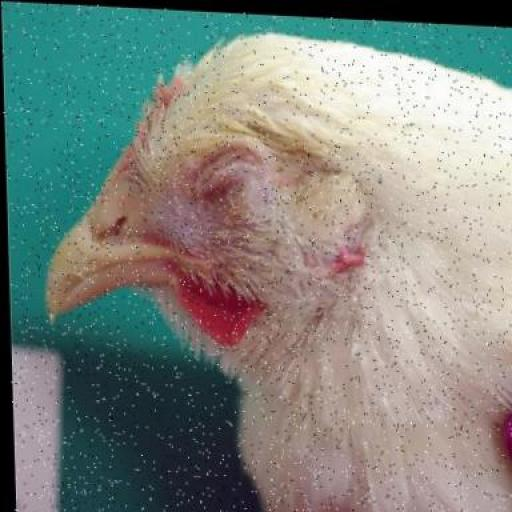disease: (159, 134, 315, 243)
